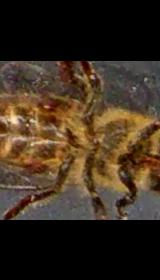varroa_mite: (38, 94, 61, 120)
